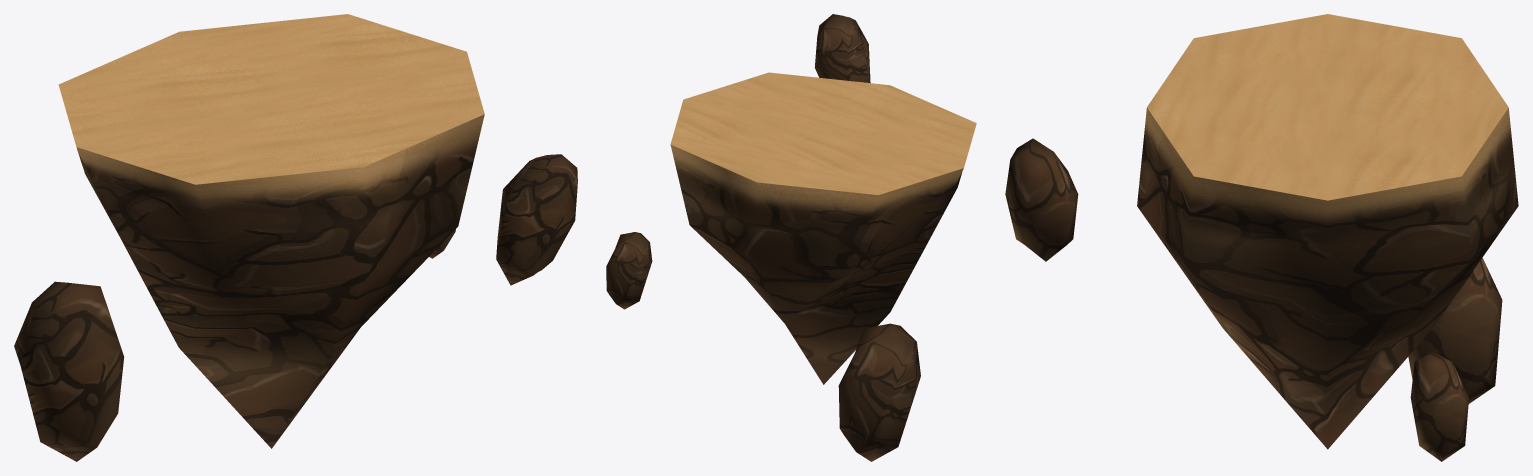
The model's file is Krokotopia Island.obj.
3 views of the same model, side by side, from view 1: azimuth 30°, elevation 25°; view 2: azimuth 150°, elevation 25°; view 3: azimuth 270°, elevation 25° (orthographic). The views are drawn at different scales.
Visible parts, largest first — view 1: polySurface4, polySurface6 pCube5; view 2: polySurface4, polySurface6 pCube5; view 3: polySurface4, polySurface6 pCube5.
Boxes of the visible parts, x1=… form: polySurface4: x1=14, y1=114, x2=577, y2=461; polySurface6 pCube5: x1=58, y1=14, x2=484, y2=184; polySurface4: x1=606, y1=14, x2=963, y2=461; polySurface6 pCube5: x1=670, y1=72, x2=976, y2=195; polySurface4: x1=1005, y1=108, x2=1518, y2=461; polySurface6 pCube5: x1=1147, y1=14, x2=1508, y2=200.
Bounding box in the file's own units: 11.07 × 9.76 × 11.55.
2 materials, 2 textured.
